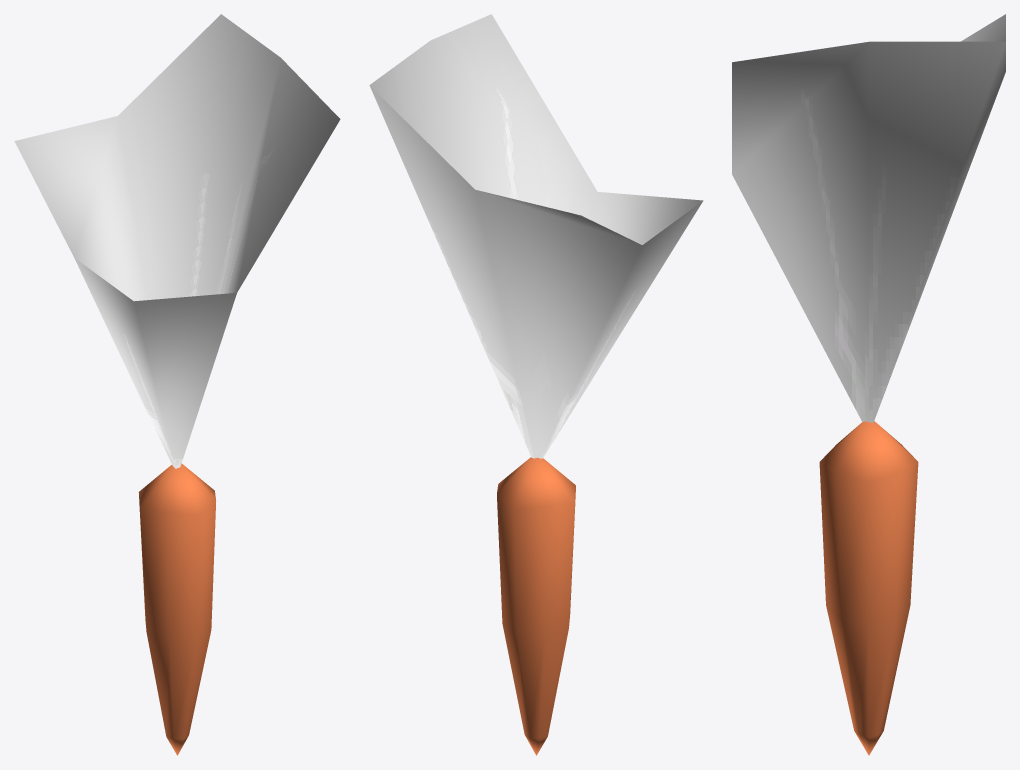
File: Carrot.fbx
3 views of the same model, side by side, from view 1: azimuth 30°, elevation 25°; view 2: azimuth 150°, elevation 25°; view 3: azimuth 270°, elevation 25° (orthographic). The views are drawn at different scales.
Parts seen in each view (by area): view 1: blast (1), carrot; view 2: blast (1), carrot; view 3: blast (1), carrot.
Part boxes in pixels (<box>): blast (1): <box>14,14,340,468</box>; carrot: <box>138,463,215,755</box>; blast (1): <box>369,14,703,458</box>; carrot: <box>497,457,575,755</box>; blast (1): <box>732,14,1005,422</box>; carrot: <box>819,421,918,755</box>.
Bounding box in the file's own units: 0.2855 × 0.8881 × 0.2855.
Materials: 2 (1 with a texture image).
